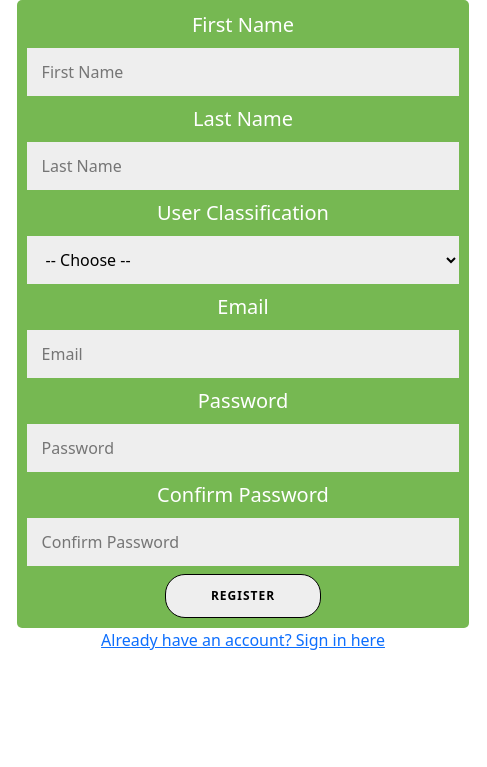
Test: should show error message when user type is not chosen
Select "-- Choose --" in the dropdown named "user-type" at coordinates (243, 260), box [27,236,459,284]
Click the button at coordinates (243, 596), box [165,574,321,618]
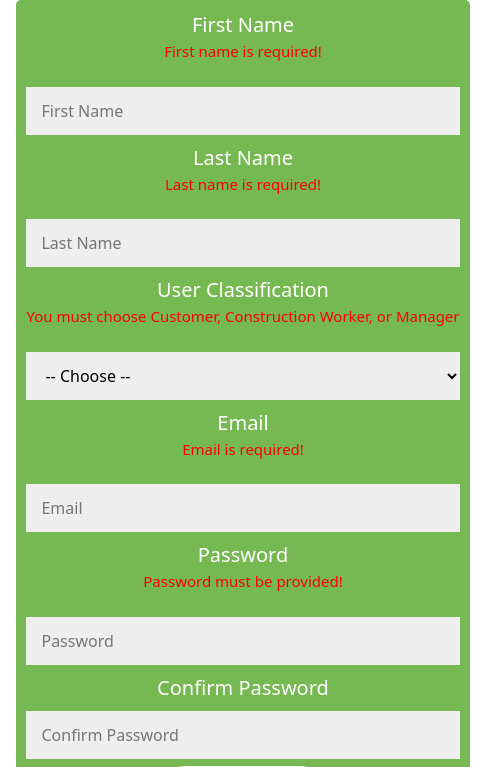
Now the text named "user-type-error" is shown, box [26,305,460,328]
